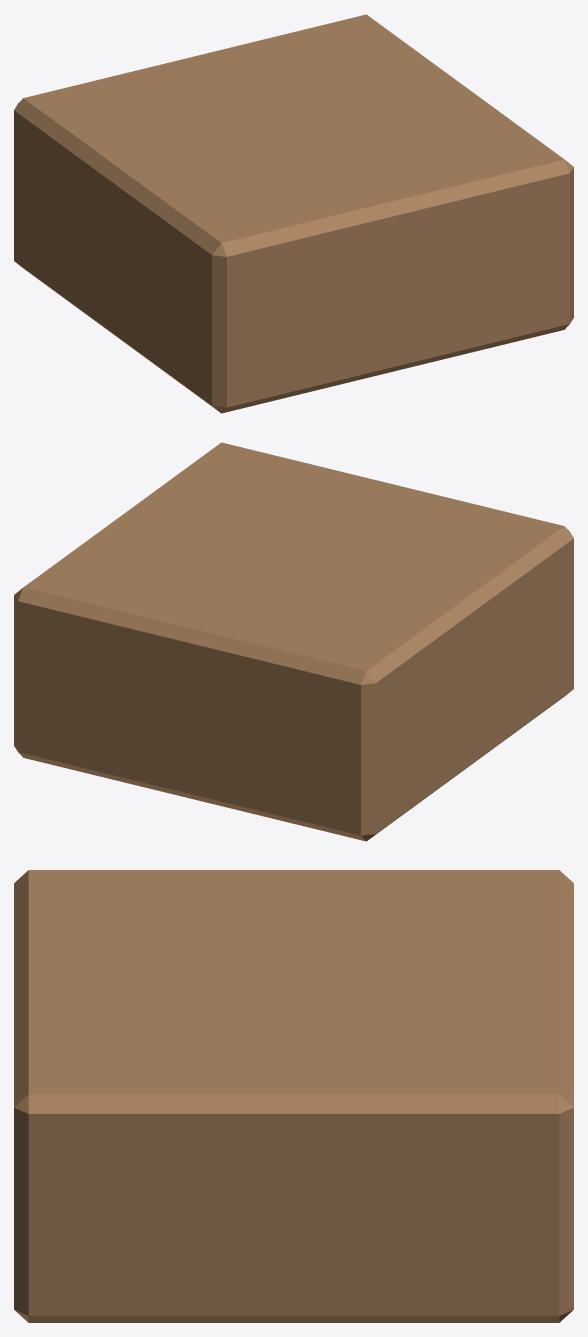
File: coluna_a.glb
3 views of the same model, one above another, from view 1: azimuth 30°, elevation 25°; view 2: azimuth 150°, elevation 25°; view 3: azimuth 270°, elevation 25° (orthographic). The views are drawn at different scales.
Visible parts, largest first — view 1: deserto_coluna_a; view 2: deserto_coluna_a; view 3: deserto_coluna_a.
Part boxes in pixels (<box>): deserto_coluna_a: <box>14,14,573,413</box>; deserto_coluna_a: <box>14,442,573,841</box>; deserto_coluna_a: <box>14,870,573,1322</box>.
Bounding box in the file's own units: 1 × 0.45 × 1.
